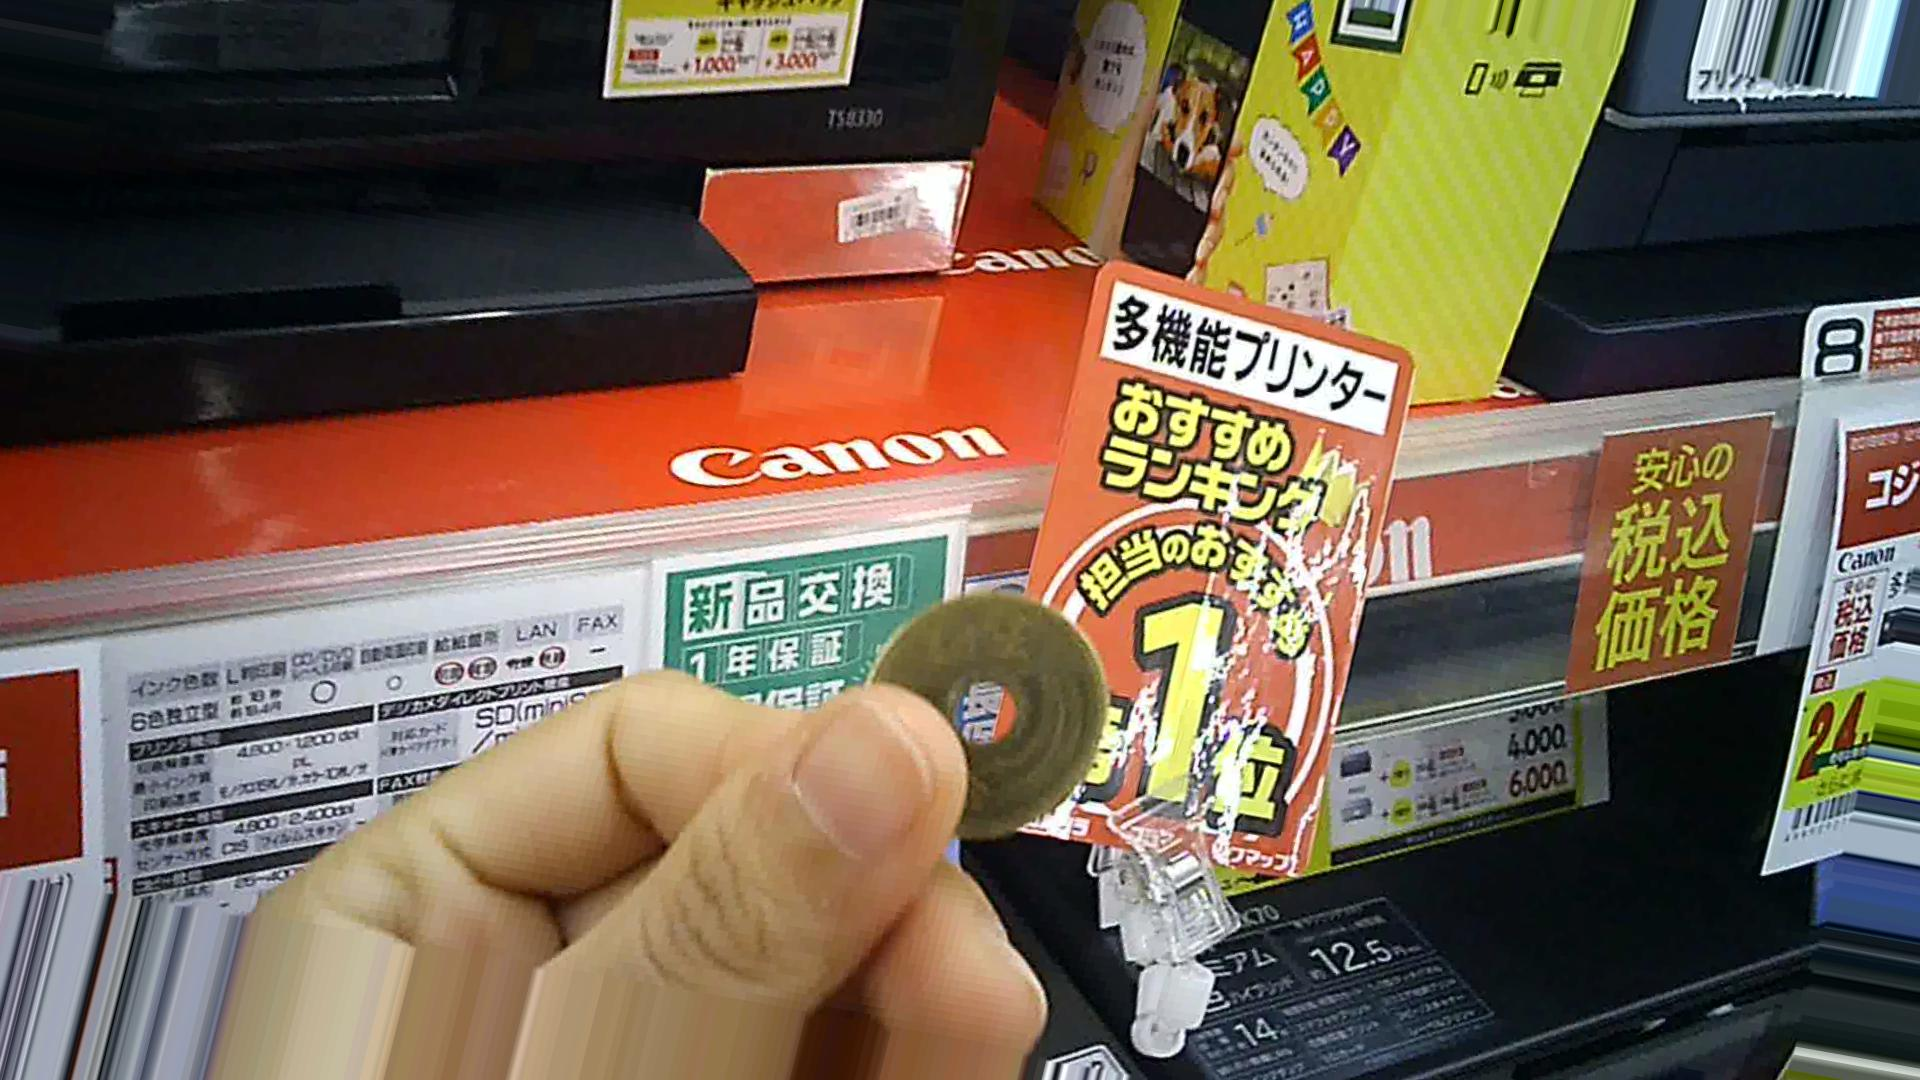5 Yen: (847, 580, 1121, 831)
